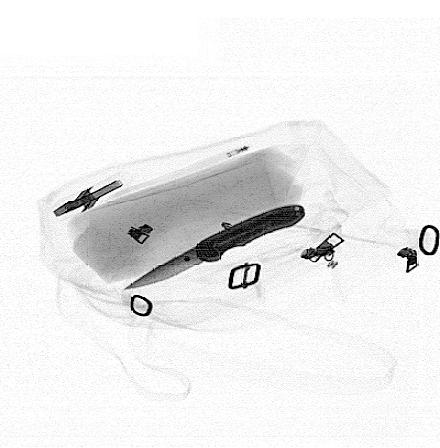Knife: (119, 202, 309, 292)
